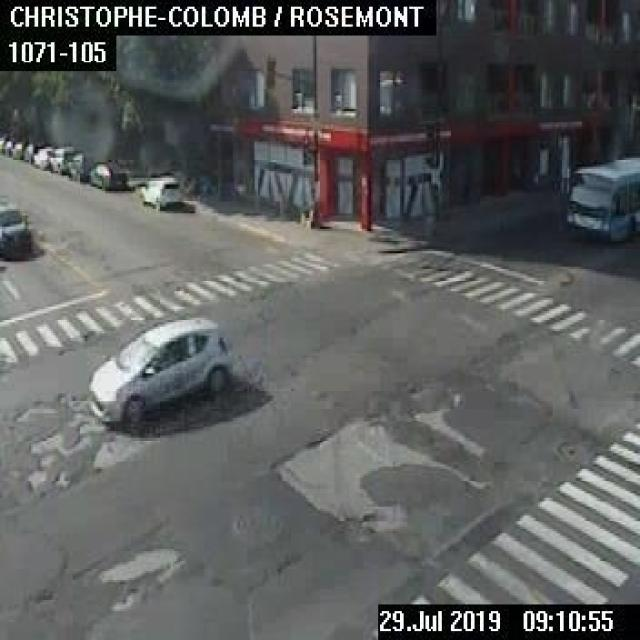bus: (565, 156, 638, 240)
vehicle: (86, 316, 227, 422), (0, 204, 31, 258), (140, 176, 178, 210), (87, 162, 127, 188), (47, 145, 77, 174), (67, 152, 92, 181), (32, 145, 53, 168), (10, 141, 23, 159), (24, 142, 36, 161), (4, 139, 12, 155), (0, 137, 4, 152)
